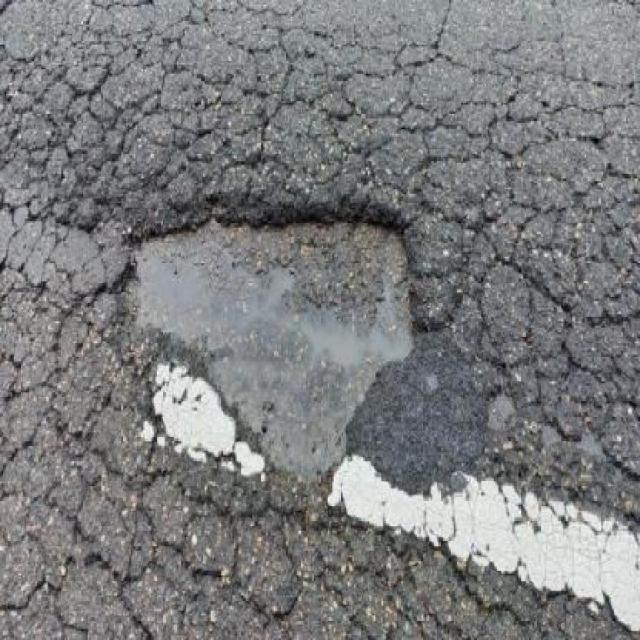Buraco: (91, 177, 449, 500)
